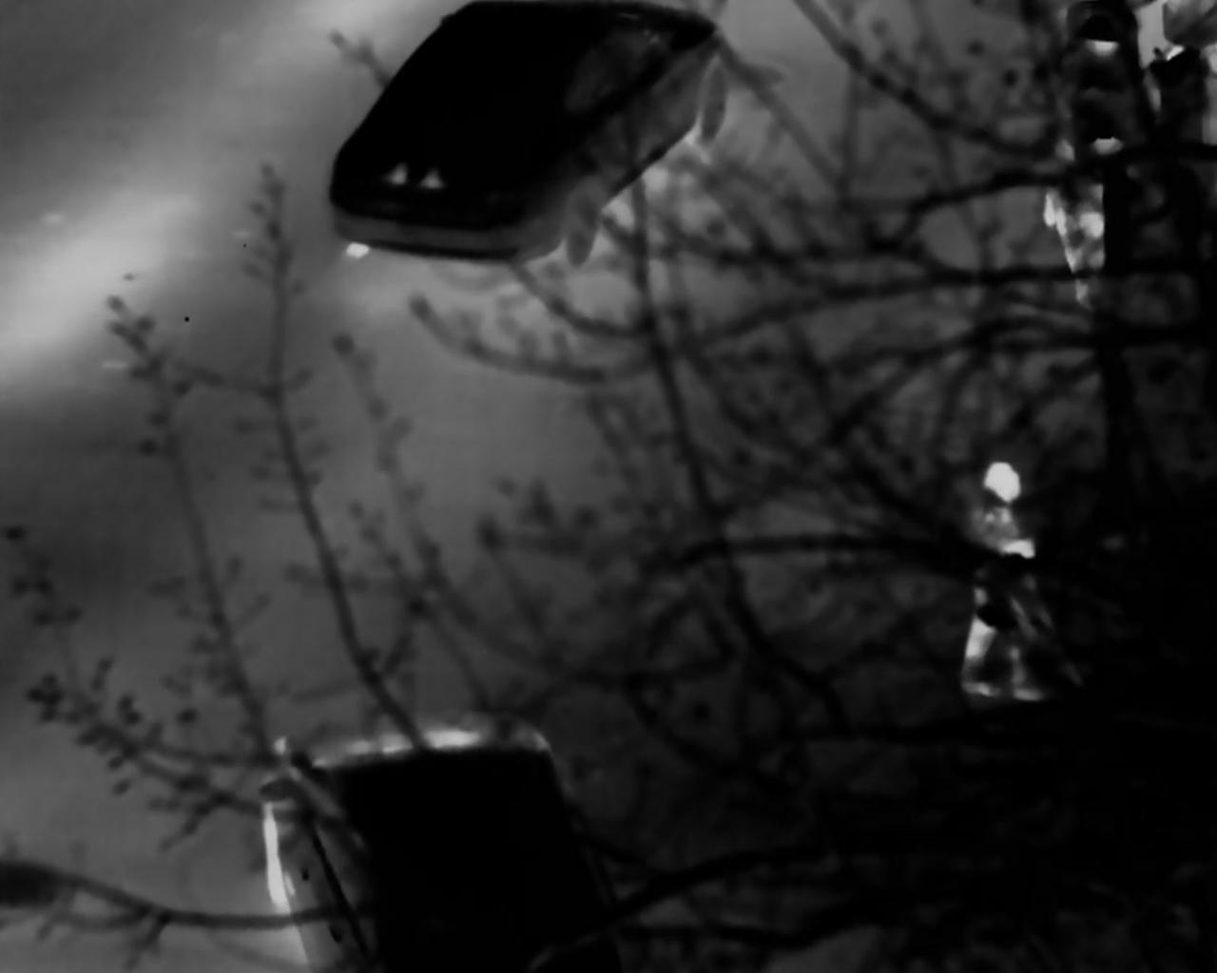person: (964, 459, 1055, 696), (1047, 57, 1133, 288)
